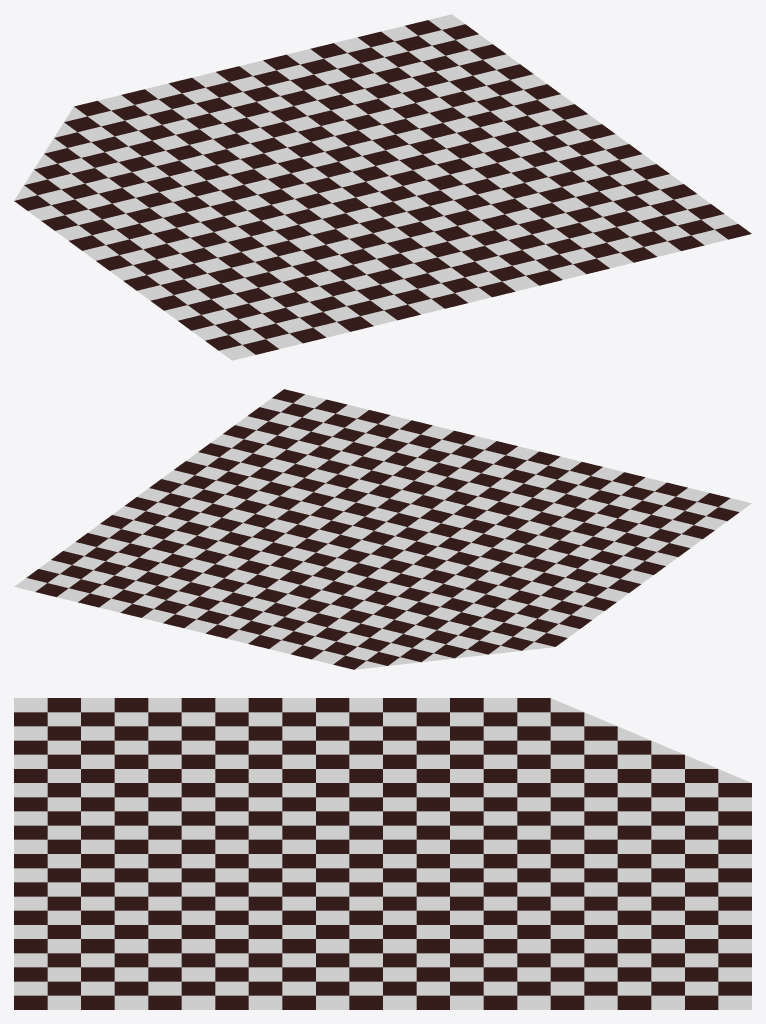
The model's file is tiled-floor-cut.fbx.
3 renders of one model, top to bottom at view 1: azimuth 30°, elevation 25°; view 2: azimuth 150°, elevation 25°; view 3: azimuth 270°, elevation 25°, orthographic. The views are drawn at different scales.
Visible parts, largest first — view 1: Plane.017; view 2: Plane.017; view 3: Plane.017.
Boxes of the visible parts, <box> form: Plane.017: <box>14,14,751,360</box>; Plane.017: <box>14,389,751,669</box>; Plane.017: <box>14,698,751,1009</box>.
Bounding box in the file's own units: 6999 × 0 × 6999.
